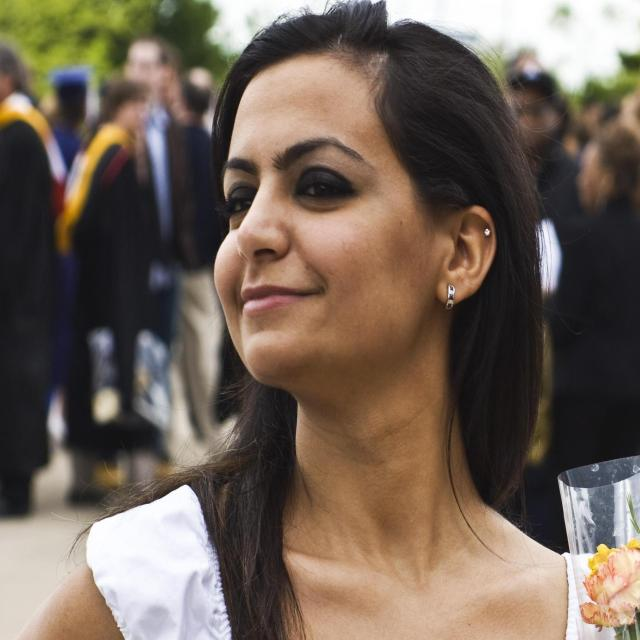no-glass: (228, 173, 366, 224)
